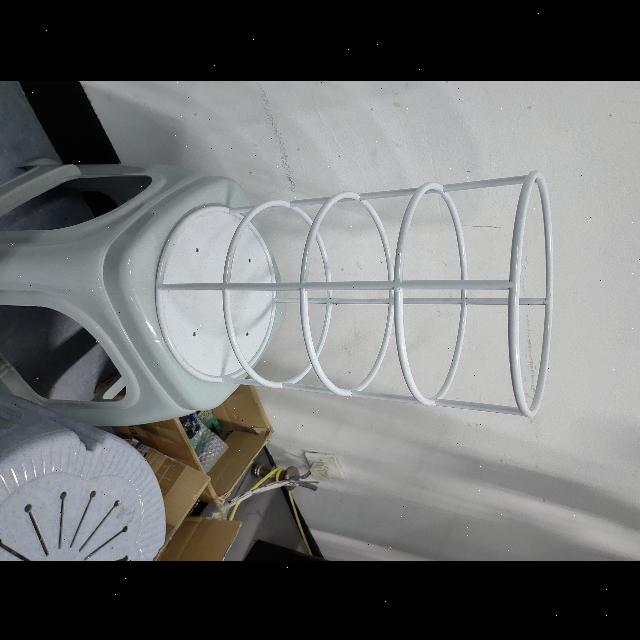S: (152, 167, 558, 419)
